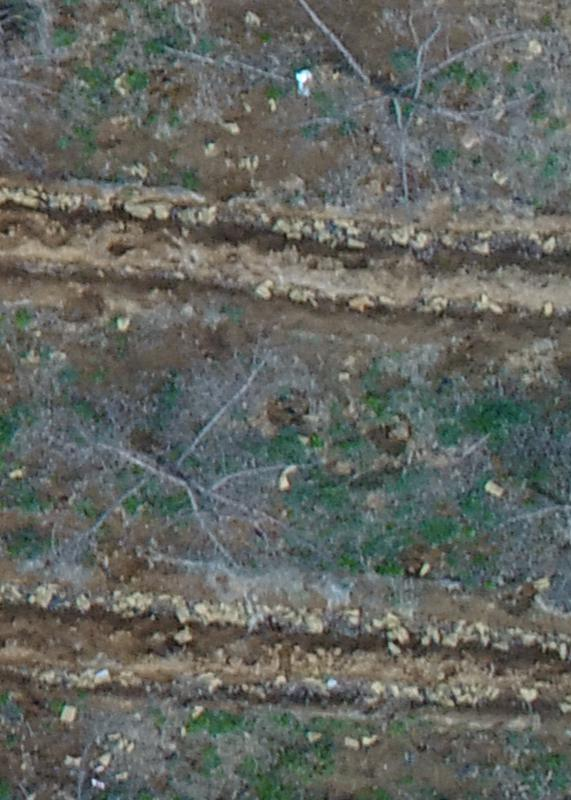apple: (43, 343, 316, 600), (225, 10, 552, 216)
